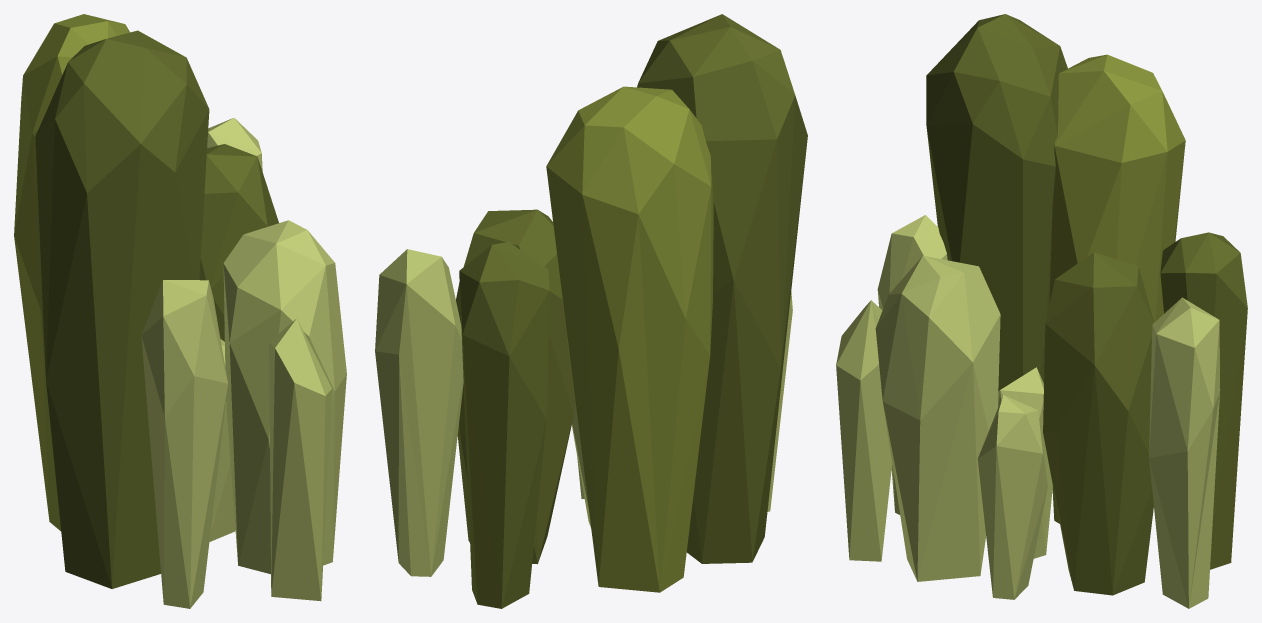
The model's file is ea_swamp_grass_01f_pre__2__lev1.glb.
3 renders of one model, left to right at view 1: azimuth 30°, elevation 25°; view 2: azimuth 150°, elevation 25°; view 3: azimuth 270°, elevation 25°, orthographic. The views are drawn at different scales.
Parts seen in each view (by area): view 1: ea_swamp_grass_01f_pre__2__lev1; view 2: ea_swamp_grass_01f_pre__2__lev1; view 3: ea_swamp_grass_01f_pre__2__lev1.
Boxes of the visible parts, <box> form: ea_swamp_grass_01f_pre__2__lev1: <box>14,14,346,608</box>; ea_swamp_grass_01f_pre__2__lev1: <box>375,14,807,608</box>; ea_swamp_grass_01f_pre__2__lev1: <box>836,14,1247,608</box>.
Bounding box in the file's own units: 0.7581 × 1.21 × 0.9247.
1 material, 1 textured.
